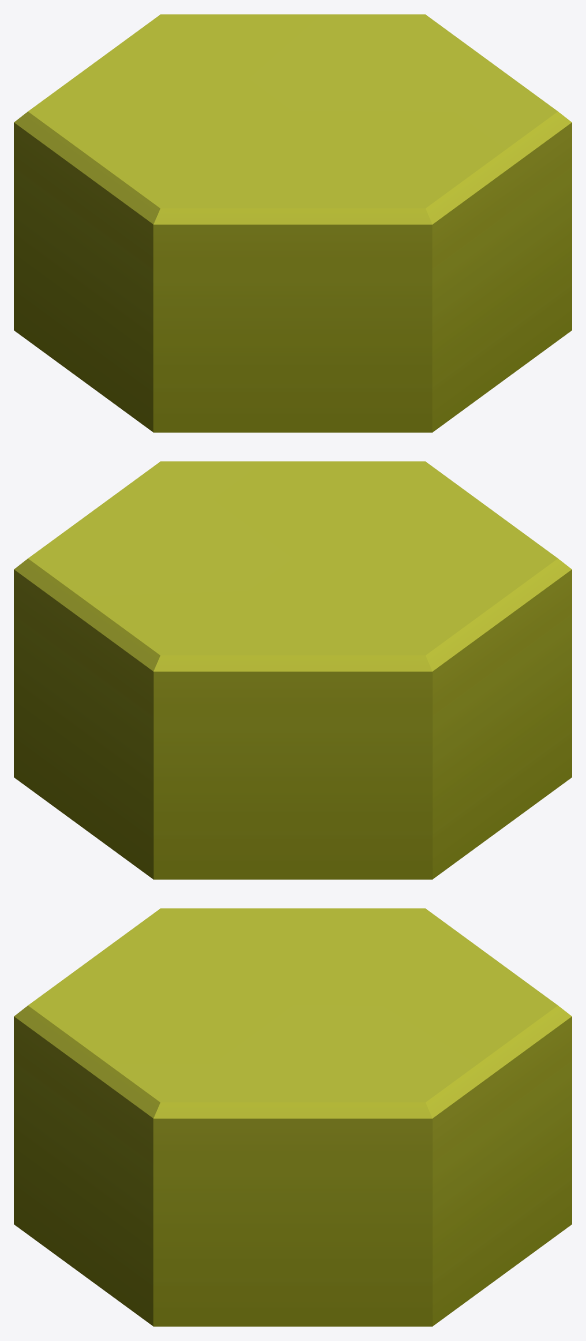
File: hex-grass.glb
3 views of the same model, one above another, from view 1: azimuth 30°, elevation 25°; view 2: azimuth 150°, elevation 25°; view 3: azimuth 270°, elevation 25° (orthographic).
Visible parts, largest first — view 1: hex_grass; view 2: hex_grass; view 3: hex_grass.
Boxes of the visible parts, box(x1,y1,x2,y2) form: hex_grass: box(14, 14, 571, 432); hex_grass: box(14, 461, 571, 879); hex_grass: box(14, 908, 571, 1326).
Bounding box in the file's own units: 2 × 1 × 2.31.
Materials: 1 (1 with a texture image).
